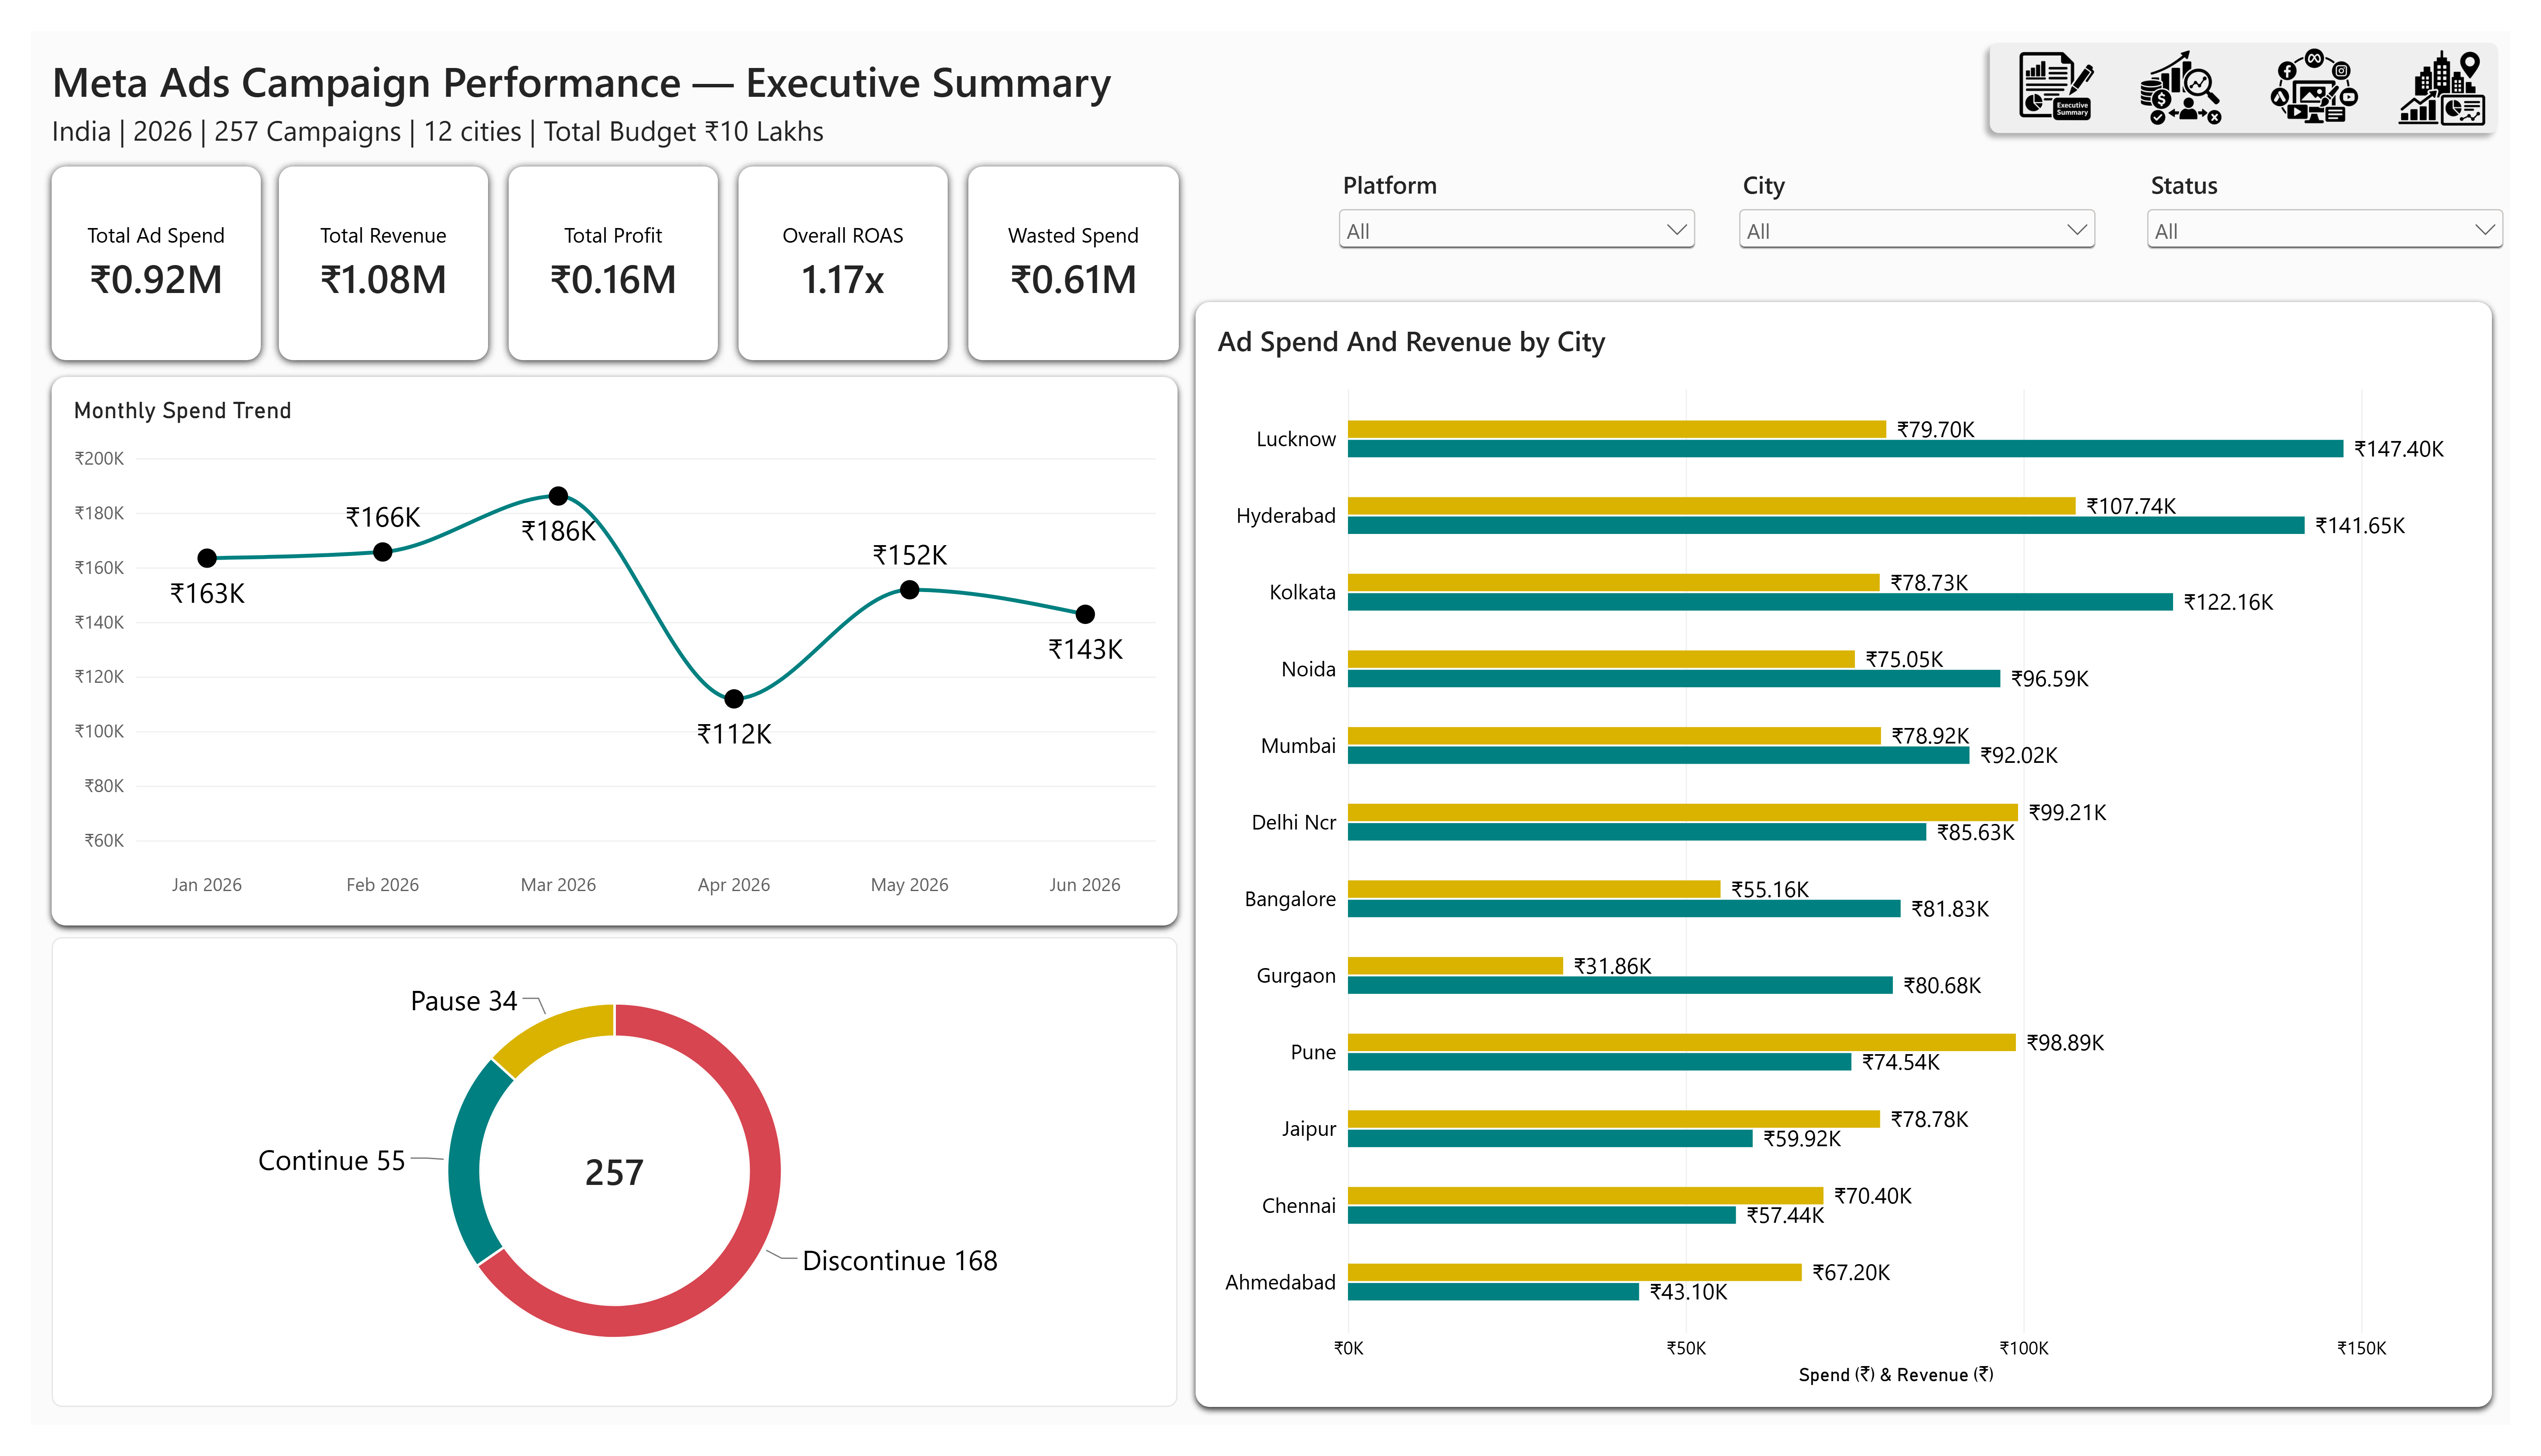

Layout of this report page (visuals, bound fields, positions):
{"tool":"powerbi","page":{"name":"Executive Summary","canvas":[1920,1080],"ordinal":0},"visuals":[{"type":"shape","box":[1508,0,412,88],"z":0},{"type":"textbox","box":[16,16,1062,45],"z":1000},{"type":"cardVisual","fields":{"Data":["MetaAds.Total Spend"]},"box":[16,105,162,150],"z":2000},{"type":"cardVisual","fields":{"Data":["MetaAds.Total Revenue1"]},"box":[192,105,162,150],"z":3000},{"type":"cardVisual","fields":{"Data":["MetaAds.Total Profit1"]},"box":[370,105,162,150],"z":4000},{"type":"cardVisual","fields":{"Data":["MetaAds.Wasted Spend"]},"box":[725.7,105,162.9,150.2],"z":5000},{"type":"cardVisual","fields":{"Data":["MetaAds.Overall ROAS"]},"box":[548,105,162,150],"z":6000},{"type":"lineChart","title":"Monthly Spend Trend","fields":{"Category":["MetaAds.Month"],"Y":["MetaAds.Total Spend"]},"box":[16,268,872,425],"z":7000},{"type":"clusteredBarChart","title":"Ad Spend And Revenue by City","fields":{"Category":["MetaAds.region1"],"Y":["MetaAds.Total Spend1","MetaAds.Total Revenue"]},"box":[902,210,1004,856],"z":8000},{"type":"donutChart","title":"Average ROAS by Platform (Break-even = 1.0x)","fields":{"Category":["MetaAds.Decision"],"Y":["MetaAds.Campaign Count"]},"box":[16,702,872,364],"z":9000},{"type":"textbox","box":[16,62,822,40],"z":10000},{"type":"slicer","fields":{"Values":["MetaAds.status"]},"box":[1634,106,286,86],"z":11000},{"type":"slicer","fields":{"Values":["MetaAds.region"]},"box":[1318,106,286,86],"z":12000},{"type":"slicer","fields":{"Values":["MetaAds.platform"]},"box":[1008,106,286,86],"z":13000},{"type":"image","box":[1830,7,75,75],"z":14000},{"type":"image","box":[1731,7,75,75],"z":15000},{"type":"image","box":[1530,7,75,75],"z":16000},{"type":"image","box":[1627,7,75,75],"z":17000}]}

Visuals, with their boxes in screenshot pixels (x1, y1, x2, y2), scaled from the page's 1920x1080 canvas onto the 2541x1456 screenshot:
shape: [x1=1996, y1=0, x2=2541, y2=119]
textbox: [x1=21, y1=22, x2=1427, y2=82]
cardVisual - MetaAds.Total Spend: [x1=21, y1=142, x2=235, y2=344]
cardVisual - MetaAds.Total Revenue1: [x1=254, y1=142, x2=469, y2=344]
cardVisual - MetaAds.Total Profit1: [x1=490, y1=142, x2=704, y2=344]
cardVisual - MetaAds.Wasted Spend: [x1=961, y1=142, x2=1176, y2=344]
cardVisual - MetaAds.Overall ROAS: [x1=725, y1=142, x2=940, y2=344]
"Monthly Spend Trend" lineChart: [x1=21, y1=361, x2=1175, y2=934]
"Ad Spend And Revenue by City" clusteredBarChart: [x1=1194, y1=283, x2=2522, y2=1437]
"Average ROAS by Platform (Break-even = 1.0x)" donutChart: [x1=21, y1=947, x2=1175, y2=1437]
textbox: [x1=21, y1=83, x2=1109, y2=138]
slicer - MetaAds.status: [x1=2163, y1=143, x2=2541, y2=259]
slicer - MetaAds.region: [x1=1744, y1=143, x2=2123, y2=259]
slicer - MetaAds.platform: [x1=1334, y1=143, x2=1713, y2=259]
image: [x1=2422, y1=9, x2=2521, y2=111]
image: [x1=2291, y1=9, x2=2390, y2=111]
image: [x1=2025, y1=9, x2=2124, y2=111]
image: [x1=2153, y1=9, x2=2253, y2=111]
